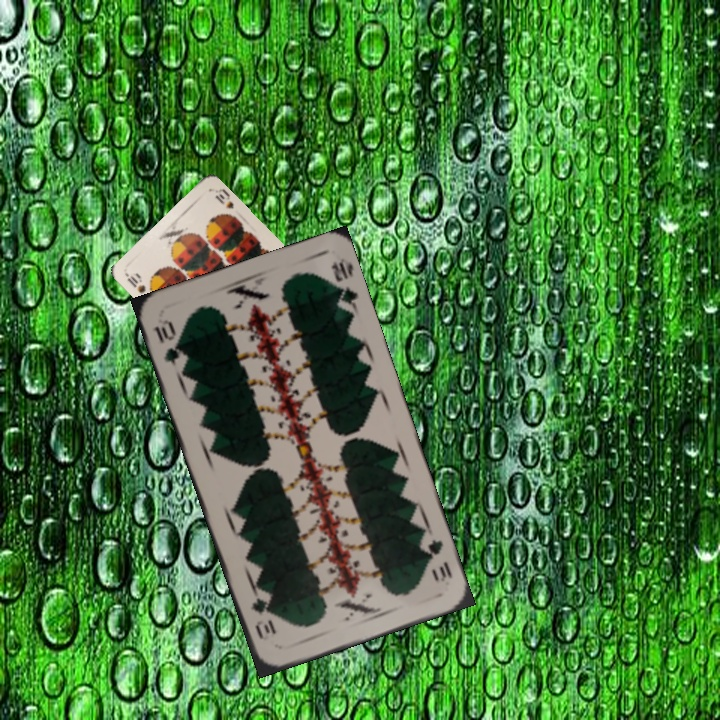G10: (416, 531, 455, 585), (149, 315, 184, 369)
S10: (122, 270, 148, 295)
